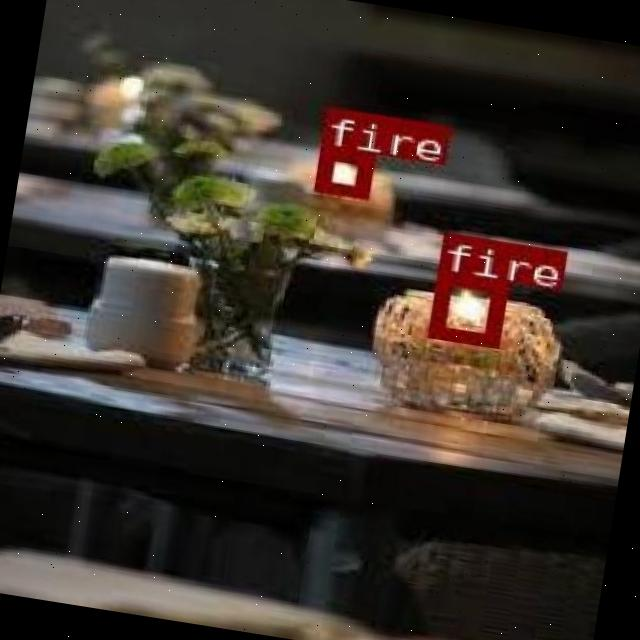fire: (428, 270, 504, 344), (312, 144, 372, 196)
